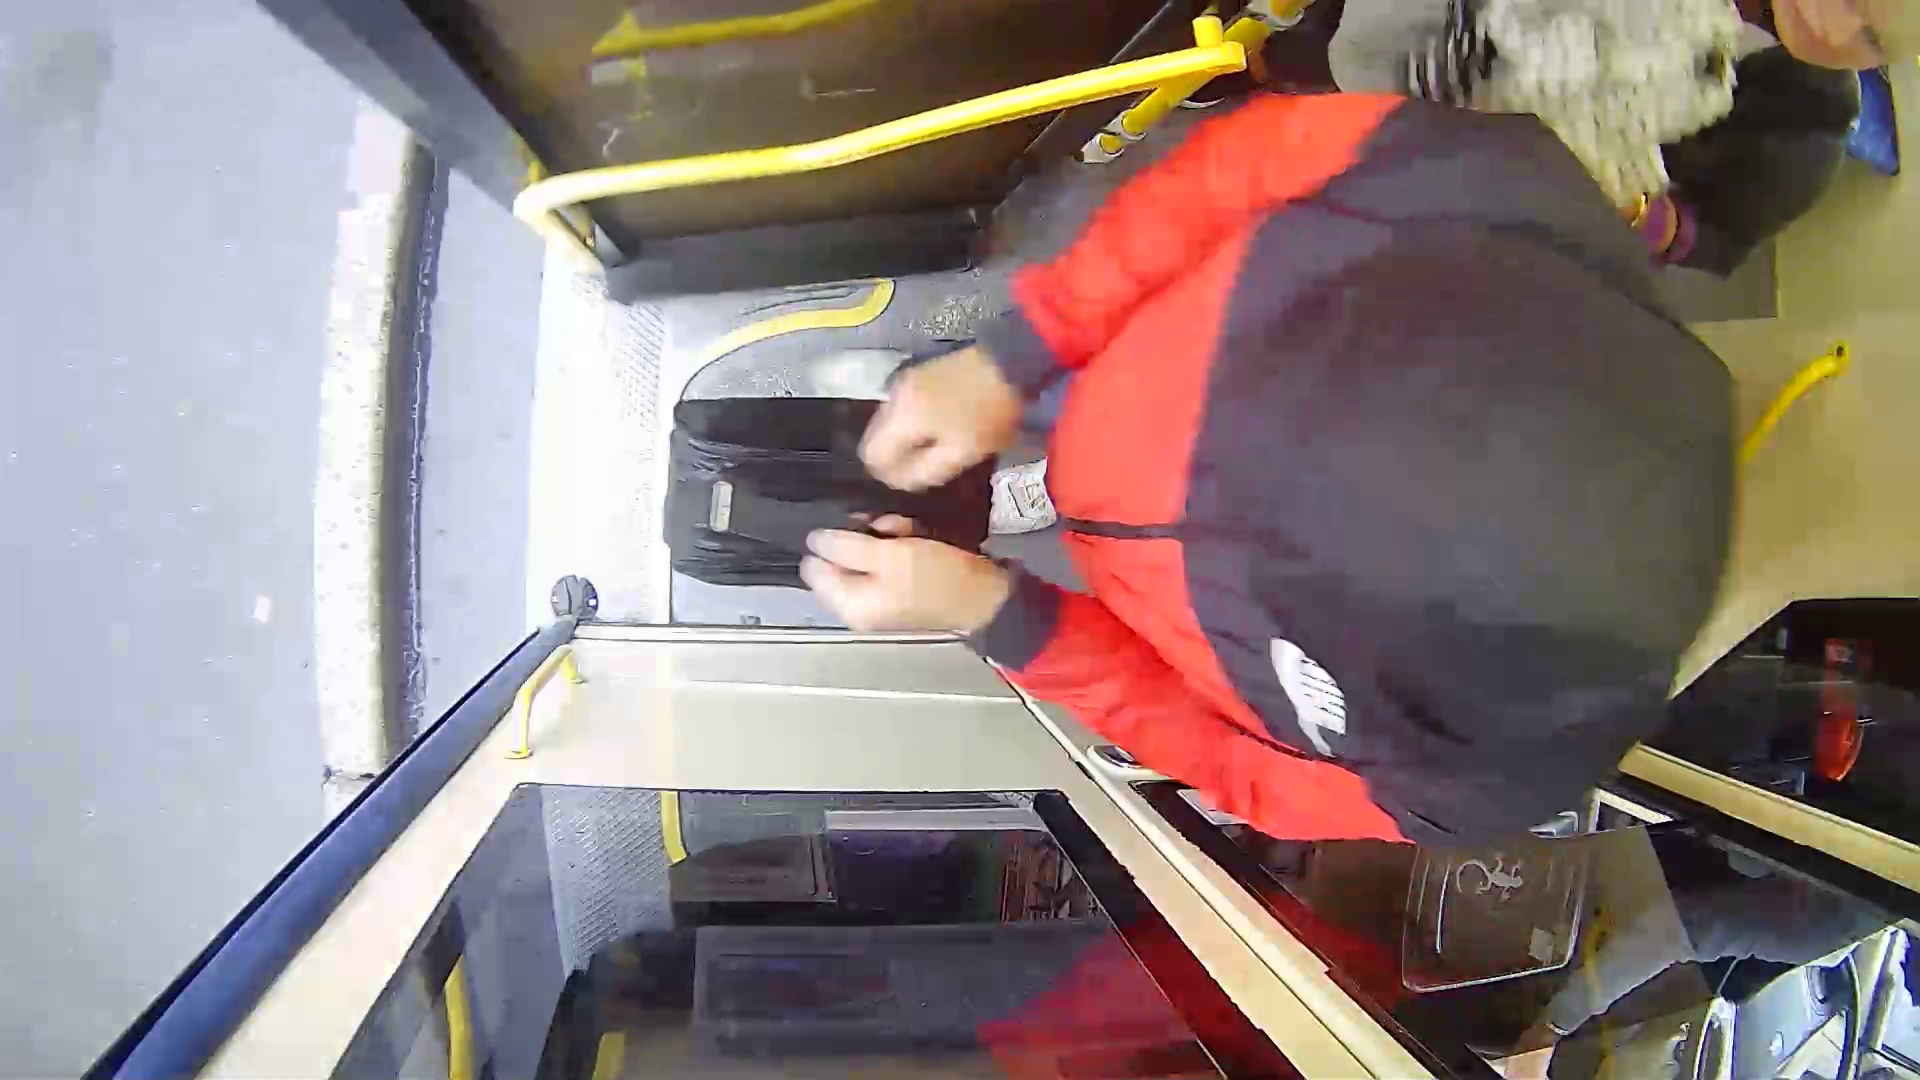person: (829, 86, 1777, 850)
